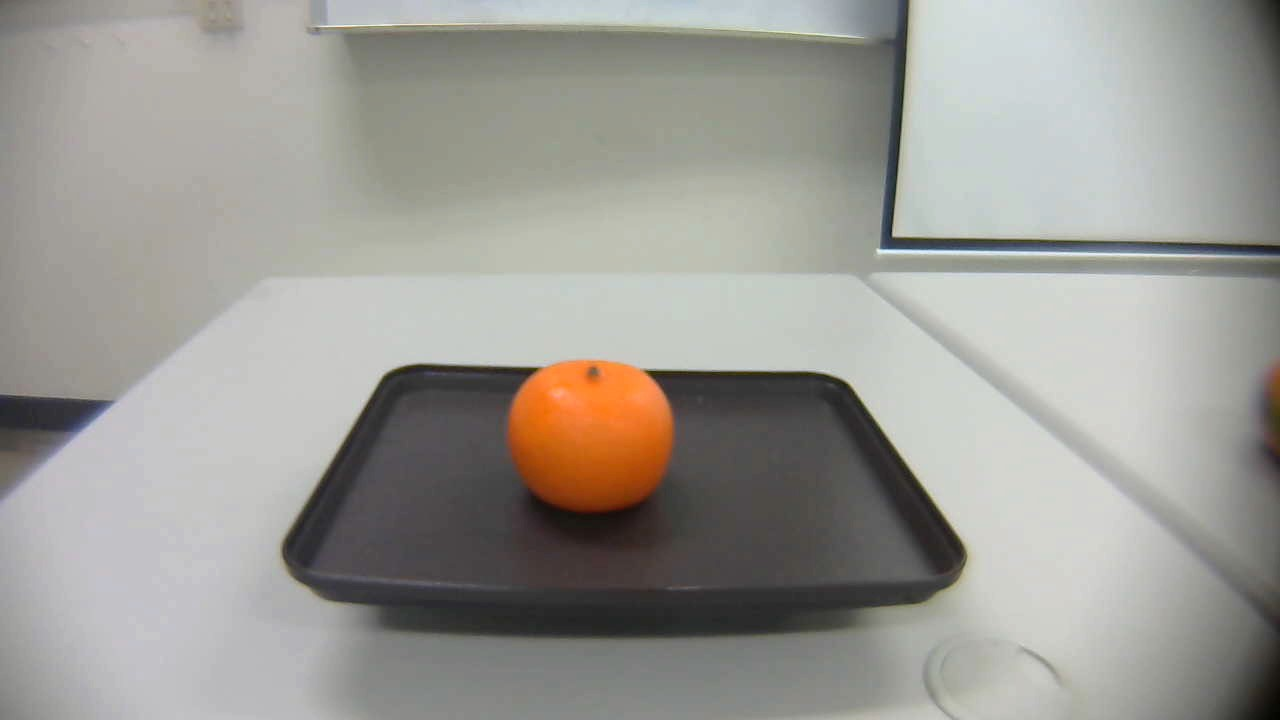orange: (501, 351, 680, 516)
